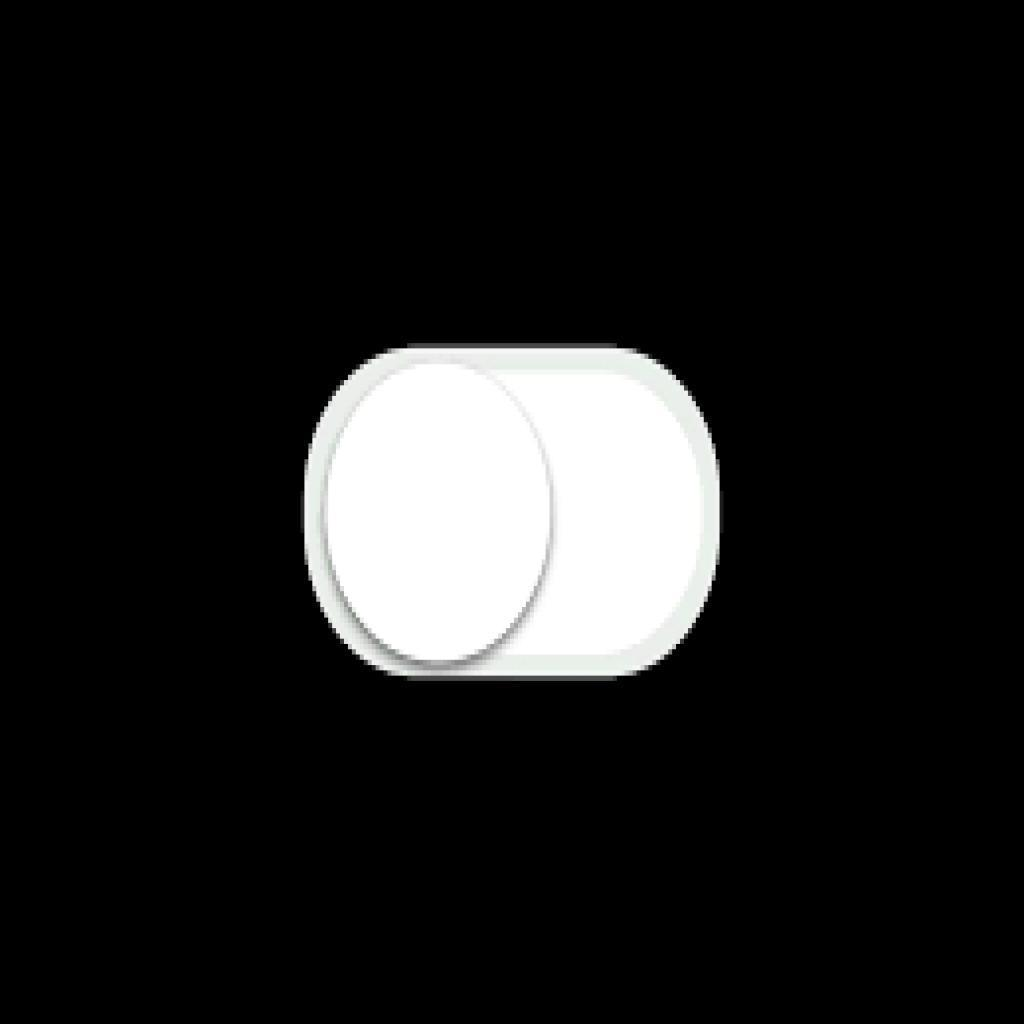switch: (304, 344, 723, 679)
